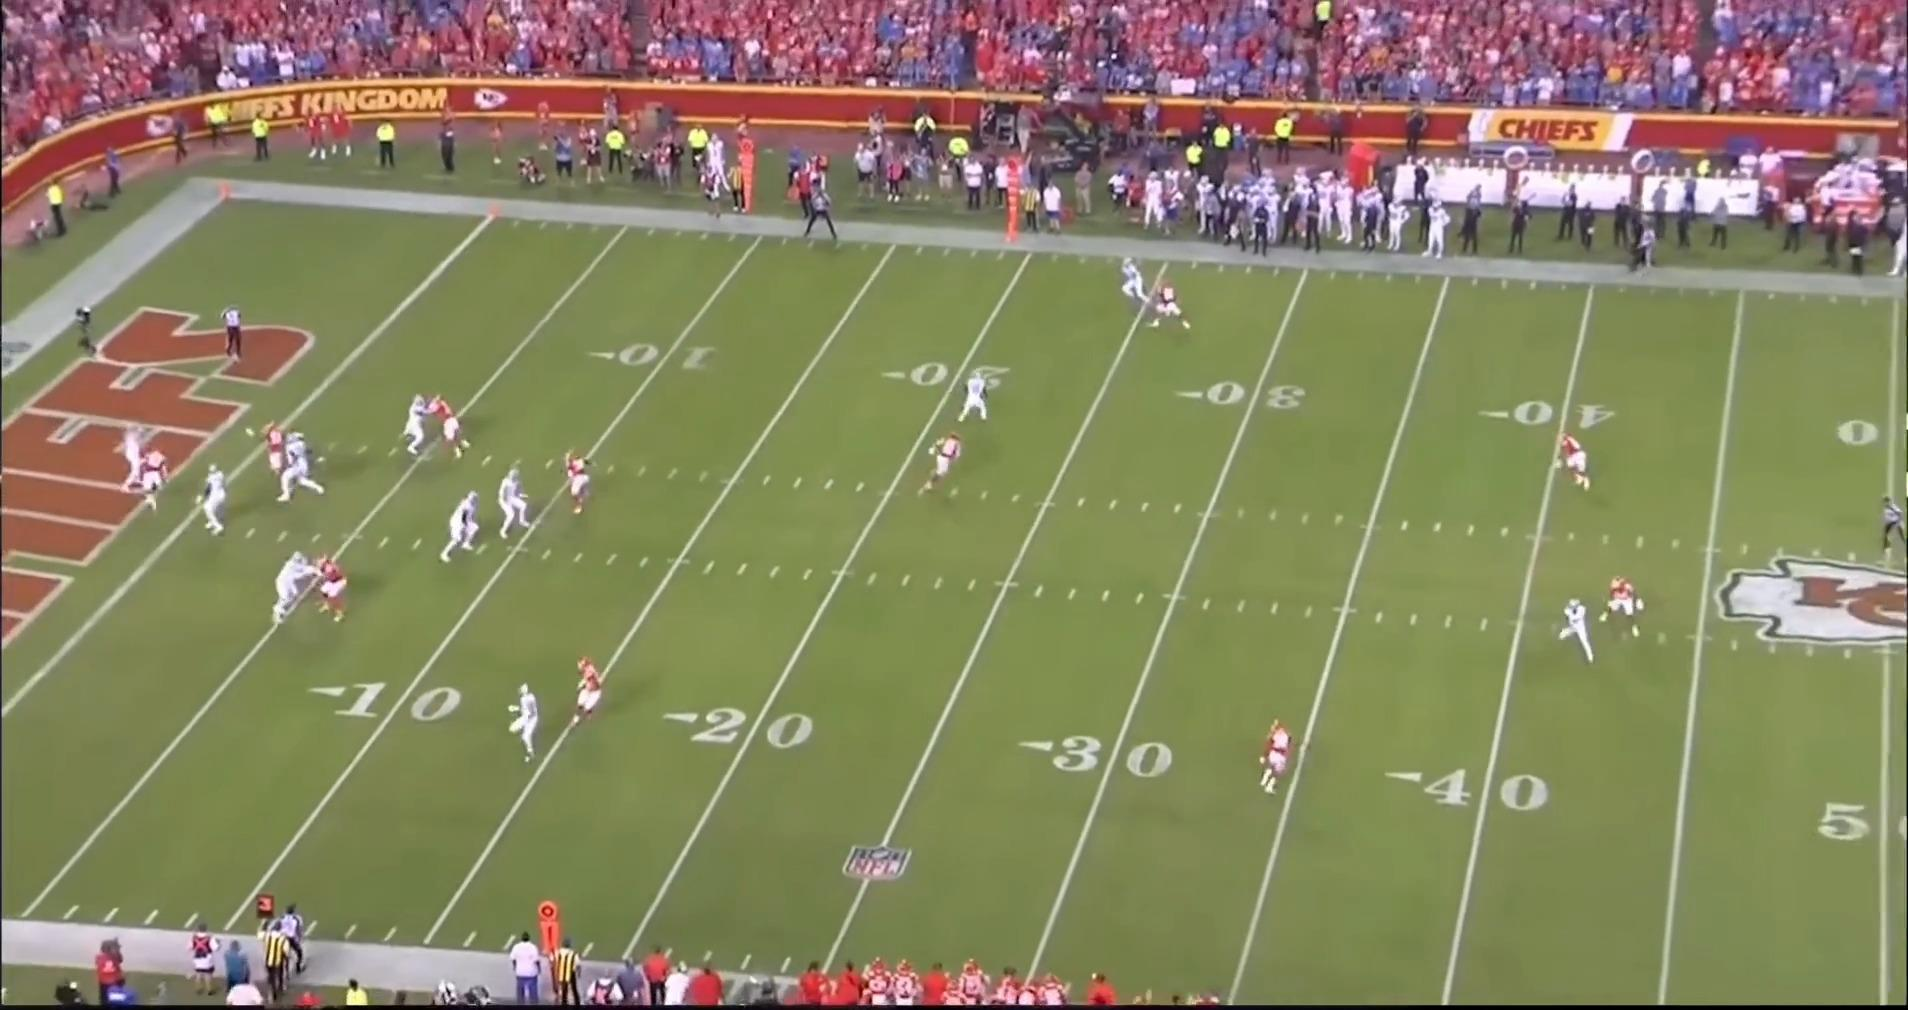player: (272, 432, 324, 507), (270, 550, 317, 627), (438, 489, 484, 567), (1597, 576, 1646, 642), (1256, 718, 1297, 795), (1559, 594, 1600, 668), (502, 678, 539, 760), (927, 433, 974, 497), (496, 466, 536, 541), (560, 656, 601, 729), (1552, 429, 1596, 496), (309, 554, 350, 623), (421, 398, 464, 460), (561, 449, 599, 519), (199, 461, 234, 537), (141, 444, 178, 513), (1148, 281, 1196, 334), (1113, 255, 1152, 317), (258, 418, 293, 484), (403, 392, 438, 458), (122, 423, 154, 493), (957, 369, 996, 425)
ref: (275, 901, 310, 976), (1875, 486, 1908, 555), (810, 188, 848, 244), (214, 300, 242, 366), (1628, 220, 1660, 273)
